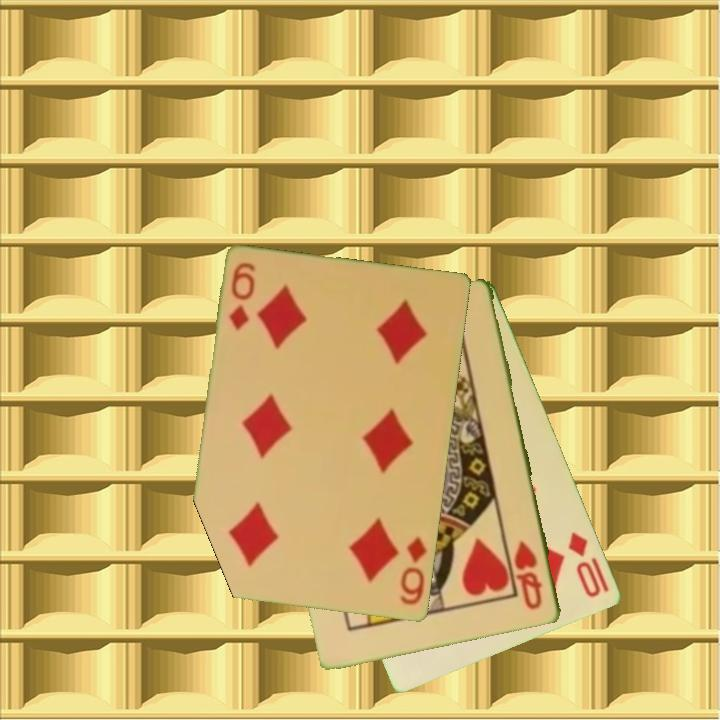10d: (565, 528, 613, 601)
6d: (397, 533, 430, 609), (226, 259, 259, 334)
Qh: (511, 537, 546, 613)
